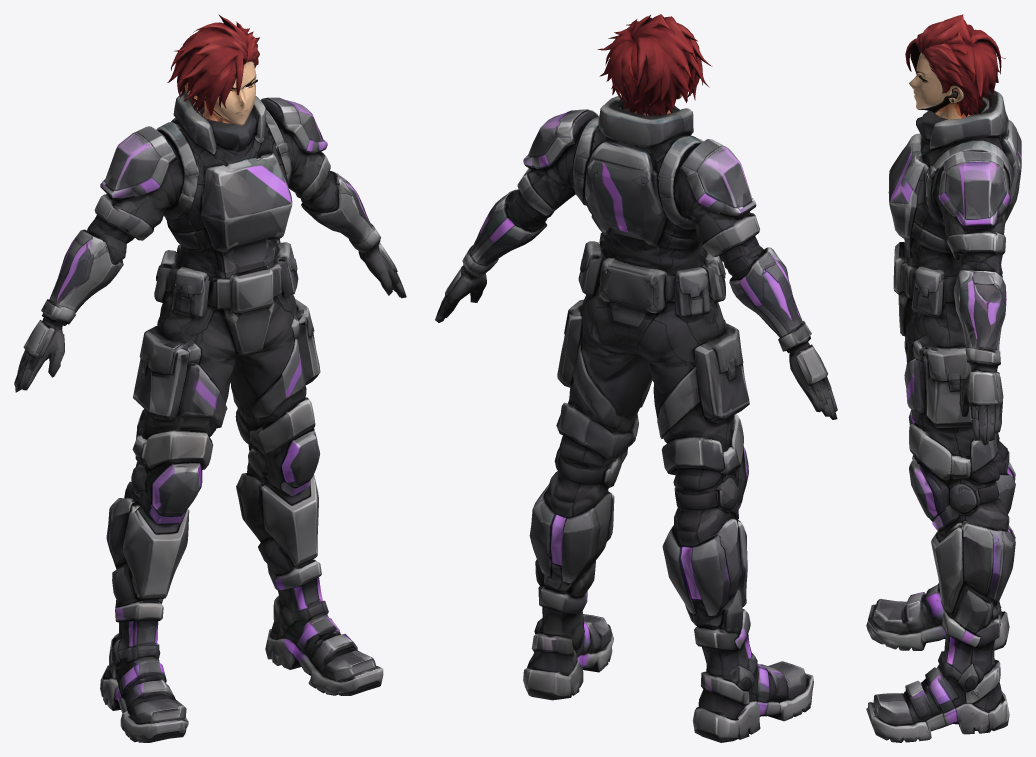
The model's file is monta.glb.
The picture shows the model from 3 angles, left to right: view 1: azimuth 30°, elevation 25°; view 2: azimuth 150°, elevation 25°; view 3: azimuth 270°, elevation 25°; orthographic projection. The views are drawn at different scales.
Visible parts, largest first — view 1: tripo_part_1.001, tripo_part_4.001, tripo_part_0.001, tripo_part_5, tripo_part_2, monta_Head; view 2: tripo_part_4.001, tripo_part_1.001, tripo_part_0.001, tripo_part_5, tripo_part_2, monta_Head; view 3: tripo_part_0.001, tripo_part_1.001, tripo_part_2, monta_Head, tripo_part_4.001.
Boxes of the visible parts, bbox=[...] form: tripo_part_1.001: bbox=[154, 91, 304, 363]; tripo_part_4.001: bbox=[100, 326, 236, 742]; tripo_part_0.001: bbox=[230, 299, 383, 695]; tripo_part_5: bbox=[14, 126, 184, 392]; tripo_part_2: bbox=[260, 97, 406, 298]; monta_Head: bbox=[167, 14, 259, 125]; tripo_part_4.001: bbox=[648, 323, 813, 742]; tripo_part_1.001: bbox=[572, 95, 725, 365]; tripo_part_0.001: bbox=[523, 299, 652, 700]; tripo_part_5: bbox=[678, 139, 837, 419]; tripo_part_2: bbox=[435, 109, 598, 322]; monta_Head: bbox=[597, 14, 712, 115]; tripo_part_0.001: bbox=[866, 340, 1015, 742]; tripo_part_1.001: bbox=[888, 89, 1021, 360]; tripo_part_2: bbox=[934, 151, 1010, 445]; monta_Head: bbox=[905, 14, 1005, 119]; tripo_part_4.001: bbox=[866, 336, 1015, 650].
Size of the model in its own units: 0.5902 by 0.9759 by 0.206.
6 materials, 6 textured.
